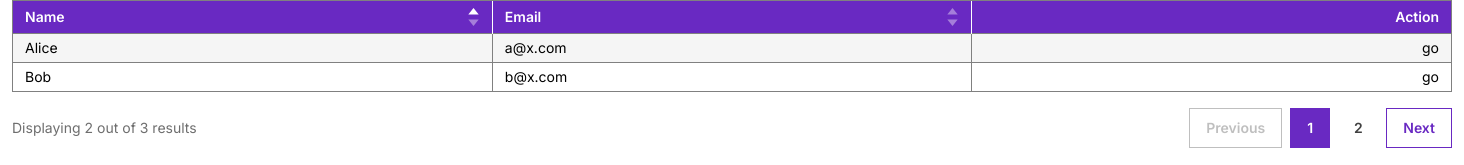
it: SortableTable › shows the result count and paginates when rows exceed the page size
Check: the text "Displaying 2 out of 3 results" is shown, box left=12, top=118, right=197, bottom=138
Step 1. Click the button named "Page 2" → (1358, 128), box left=1338, top=108, right=1378, bottom=148
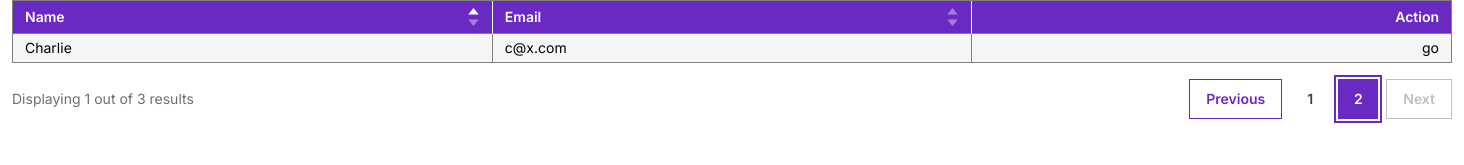
Check: the text "Displaying 1 out of 3 results" is shown, box left=12, top=88, right=194, bottom=108
